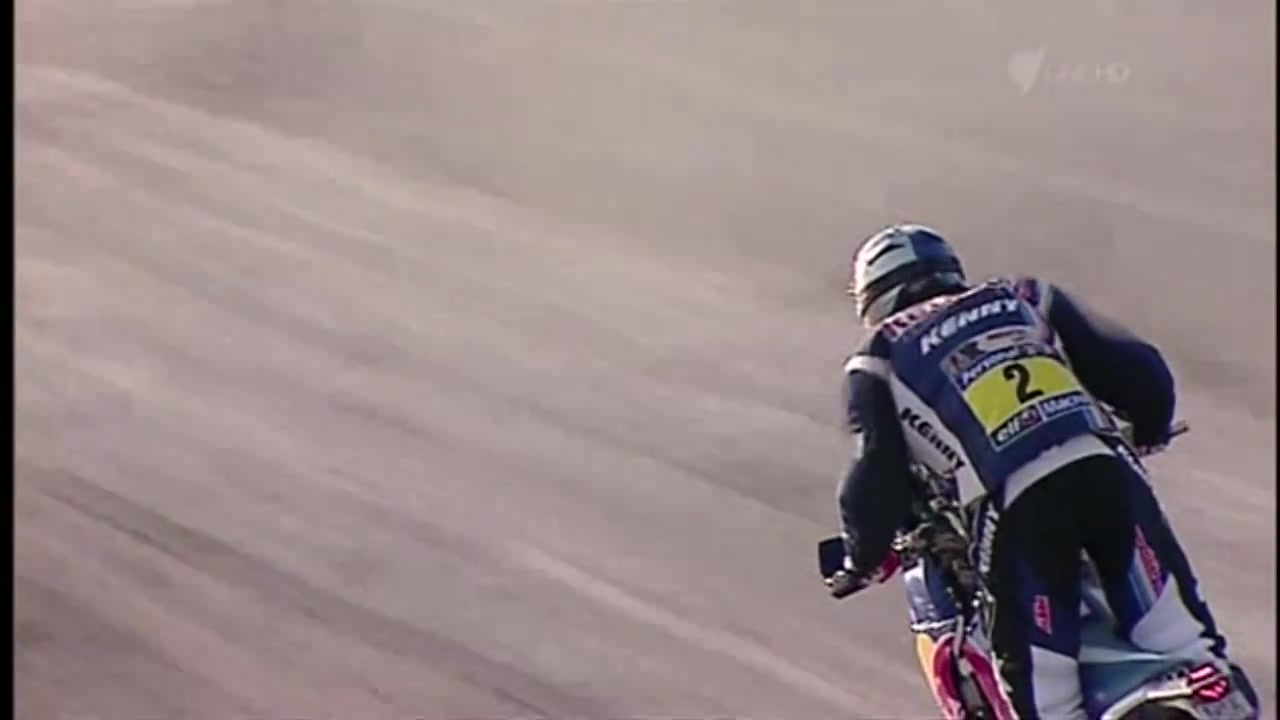motorbike: (820, 412, 1265, 720)
